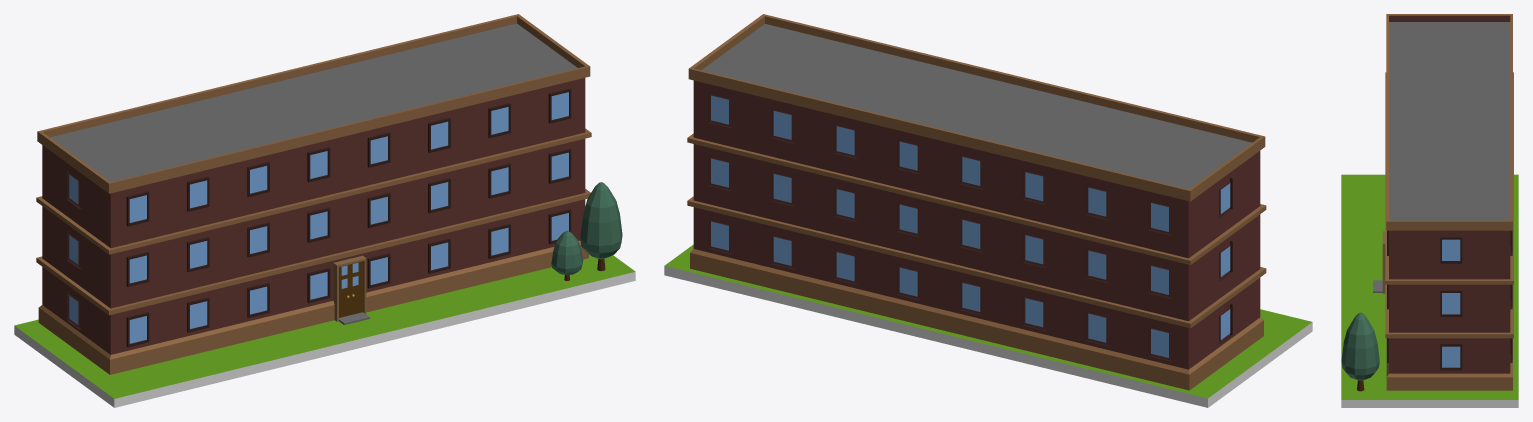
File: Building Type 1 Lvl 1.gltf
The picture shows the model from 3 angles, left to right: view 1: azimuth 30°, elevation 25°; view 2: azimuth 150°, elevation 25°; view 3: azimuth 270°, elevation 25°; orthographic projection. The views are drawn at different scales.
Visible parts, largest first — view 1: zgrada, BAZA 1x3, prozori zgrada, cempres veliki, ulazna vrata zgrade, cempres mali; view 2: zgrada, prozori zgrada, BAZA 1x3; view 3: zgrada, BAZA 1x3, prozori zgrada, cempres veliki, ulazna vrata zgrade.
Boxes of the visible parts, x1,y1,x2,y2 form: zgrada: (36, 14, 591, 374); BAZA 1x3: (14, 254, 635, 407); prozori zgrada: (67, 88, 571, 347); cempres veliki: (580, 182, 622, 270); ulazna vrata zgrade: (333, 255, 369, 324); cempres mali: (551, 230, 582, 280); zgrada: (687, 14, 1266, 390); prozori zgrada: (708, 91, 1232, 361); BAZA 1x3: (664, 244, 1312, 407); zgrada: (1385, 14, 1513, 390); BAZA 1x3: (1341, 174, 1518, 407); prozori zgrada: (1387, 230, 1512, 370); cempres veliki: (1341, 312, 1379, 391); ulazna vrata zgrade: (1373, 231, 1385, 293).
Bounding box in the file's own units: 6 × 2.21 × 2.
